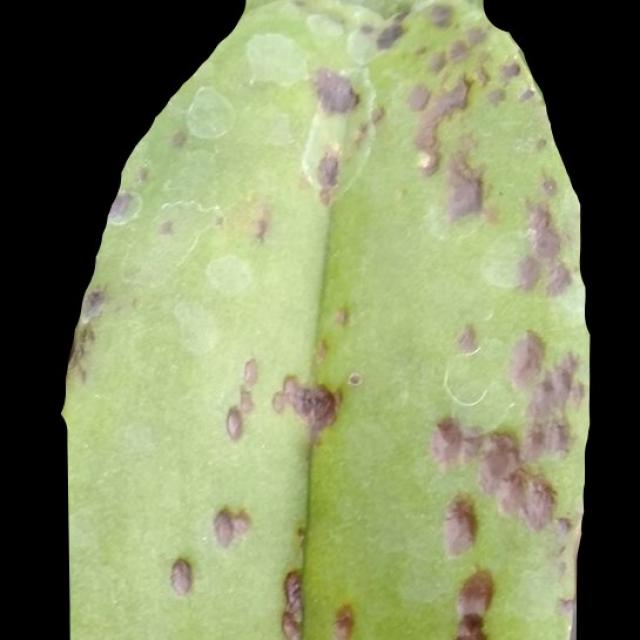mite: (183, 83, 236, 141), (106, 188, 142, 225), (451, 611, 490, 639), (372, 18, 406, 50), (168, 555, 194, 595), (425, 2, 453, 29), (346, 370, 363, 388)
spots: (60, 0, 592, 639)
